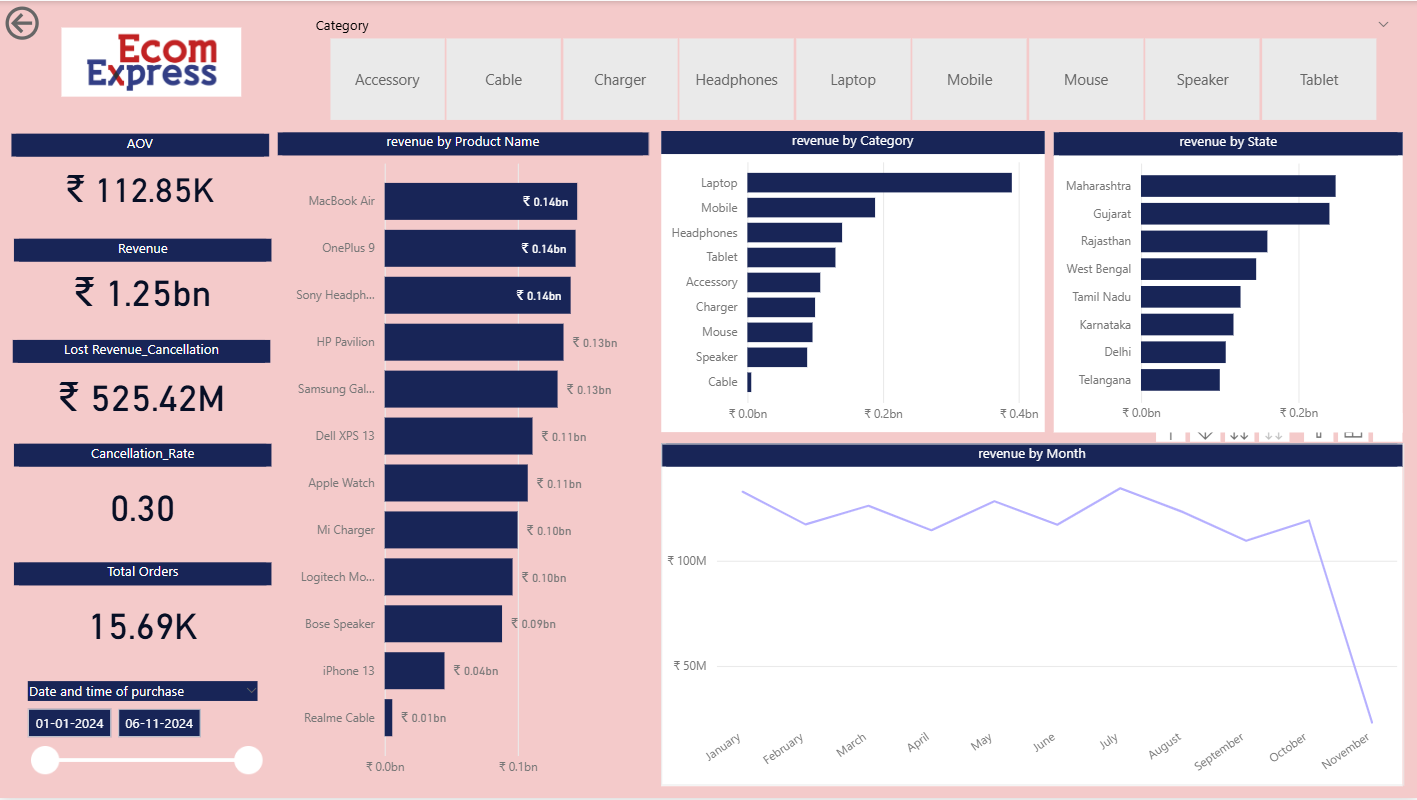

This screenshot's page, from the dashboard's own definition file:
{"tool":"powerbi","page":{"name":"Page 1","canvas":[1280,720],"ordinal":0},"visuals":[{"type":"barChart","fields":{"Y":["Table.revenue"],"Category":["Products.Product Name"]},"box":[250.3,119,335,590.2],"z":2000},{"type":"barChart","fields":{"Y":["Table.revenue"],"Category":["Products.Category"]},"box":[597.5,117.8,346,272.4],"z":3000},{"type":"lineChart","fields":{"Y":["Table.revenue"],"Category":["Orders.Date and time of purchase.Variation.Date Hierarchy.Year","Orders.Date and time of purchase.Variation.Date Hierarchy.Quarter","Orders.Date and time of purchase.Variation.Date Hierarchy.Month","Orders.Date and time of purchase.Variation.Date Hierarchy.Day"]},"box":[597.5,400,669.9,309.2],"z":4000},{"type":"barChart","fields":{"Category":["Customers.State"],"Y":["Table.revenue"]},"box":[952.2,119,315.3,271.2],"z":5000},{"type":"slicer","fields":{"Values":["Products.Category"]},"box":[272.4,8.6,995.1,105.5],"z":6000},{"type":"actionButton","box":[0,0,100,40],"z":7000},{"type":"card","title":"AOV","fields":{"Values":["Table.AOV"]},"box":[10,119.2,232.6,83.3],"z":8000},{"type":"card","title":"Revenue","fields":{"Values":["Table.revenue"]},"box":[12.3,214.7,233.1,78.5],"z":9000},{"type":"card","title":"Lost Revenue_Cancellation","fields":{"Values":["Table.lost_rev_cancellation"]},"box":[11,305.5,233.1,84.7],"z":10000},{"type":"card","title":"Cancellation_Rate","fields":{"Values":["Table.cancellation rate"]},"box":[12.3,400,233.1,95.7],"z":11000},{"type":"card","title":"Total Orders","fields":{"Values":["CountNonNull(Orders.OrderID)"]},"box":[12.3,506.8,233.1,95.7],"z":12000},{"type":"slicer","fields":{"Values":["Orders.Date and time of purchase"]},"box":[12.3,609.8,233.1,99.4],"z":13000},{"type":"image","box":[39.3,19.6,195.1,72.4],"z":14000}]}

Visuals, with their boxes in screenshot pixels (x1, y1, x2, y2):
barChart - Table.revenue x Products.Product Name: box=[385, 155, 738, 776]
barChart - Table.revenue x Products.Category: box=[751, 154, 1115, 440]
lineChart - Table.revenue x Orders.Date and time of purchase.Variation.Date Hierarchy.Year: box=[751, 451, 1416, 776]
barChart - Customers.State x Table.revenue: box=[1124, 155, 1416, 440]
slicer - Products.Category: box=[409, 39, 1416, 150]
actionButton: box=[122, 30, 227, 72]
"AOV" card: box=[132, 155, 377, 243]
"Revenue" card: box=[135, 256, 380, 338]
"Lost Revenue_Cancellation" card: box=[133, 351, 379, 440]
"Cancellation_Rate" card: box=[135, 451, 380, 552]
"Total Orders" card: box=[135, 563, 380, 664]
slicer - Orders.Date and time of purchase: box=[135, 672, 380, 776]
image: box=[163, 50, 369, 126]
